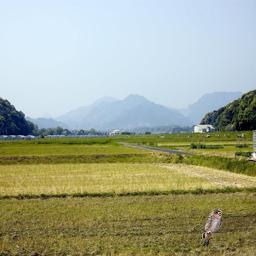Swallow: (200, 208, 222, 246)
